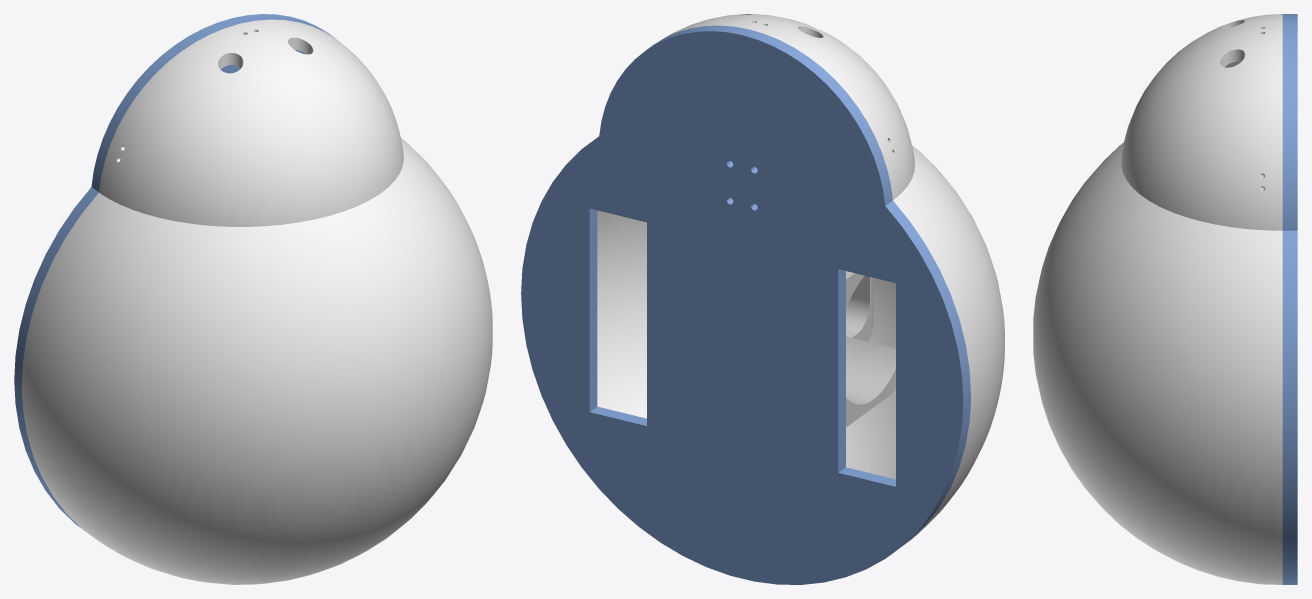
Rendered from ladybug-transformed.glb.
The picture shows the model from 3 angles, left to right: view 1: azimuth 30°, elevation 25°; view 2: azimuth 150°, elevation 25°; view 3: azimuth 270°, elevation 25°; orthographic projection. The views are drawn at different scales.
Parts seen in each view (by area): view 1: top, base; view 2: base, top, motor_holder; view 3: top, base.
Part boxes in pixels (bbox=[...]): top: bbox=[21, 19, 492, 584]; base: bbox=[14, 14, 335, 530]; base: bbox=[521, 25, 970, 584]; top: bbox=[597, 14, 1004, 538]; motor_holder: bbox=[846, 271, 895, 427]; top: bbox=[1033, 14, 1282, 584]; base: bbox=[1282, 14, 1297, 584].
Bounding box in the file's own units: 0.1 × 0.1174 × 0.0529.
